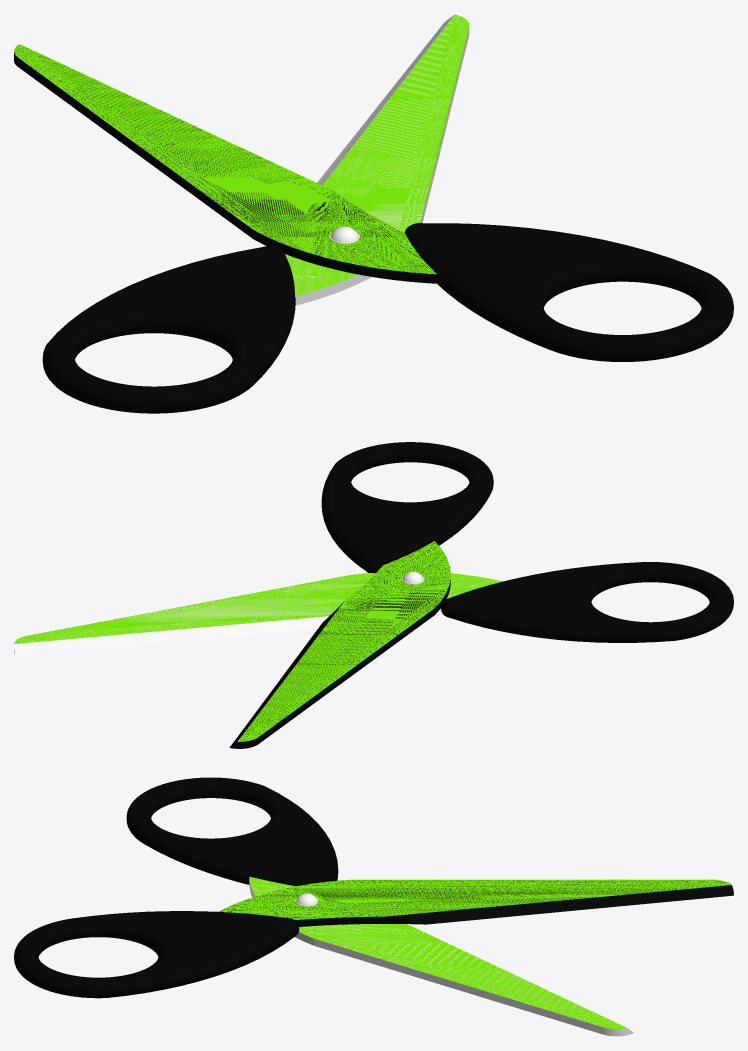
The model's file is scissor_01_origin_gt_2.dae.
3 renders of one model, top to bottom at view 1: azimuth 30°, elevation 25°; view 2: azimuth 150°, elevation 25°; view 3: azimuth 270°, elevation 25°, orthographic. The views are drawn at different scales.
Parts seen in each view (by area): view 1: Component_8 (×4), Component_7 (×4); view 2: Component_8 (×4), Component_7 (×4); view 3: Component_7 (×4), Component_8 (×4).
Boxes of the visible parts, box(x1,y1,x2,y2) form: Component_8 (×4): box(42, 223, 733, 413); Component_7 (×4): box(14, 14, 469, 305); Component_8 (×4): box(321, 442, 733, 642); Component_7 (×4): box(14, 541, 502, 748); Component_7 (×4): box(218, 876, 733, 1036); Component_8 (×4): box(14, 777, 338, 998).
Bounding box in the file's own units: 6.6 × 8.03 × 0.3154.
